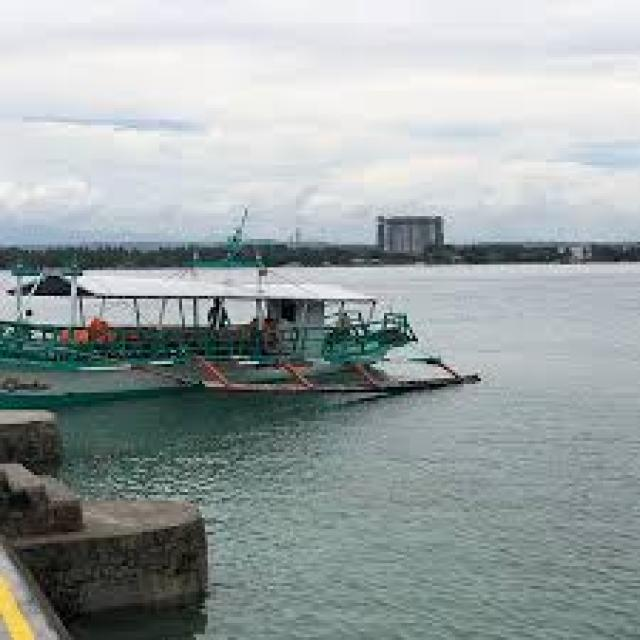houseboat: (0, 207, 464, 412)
